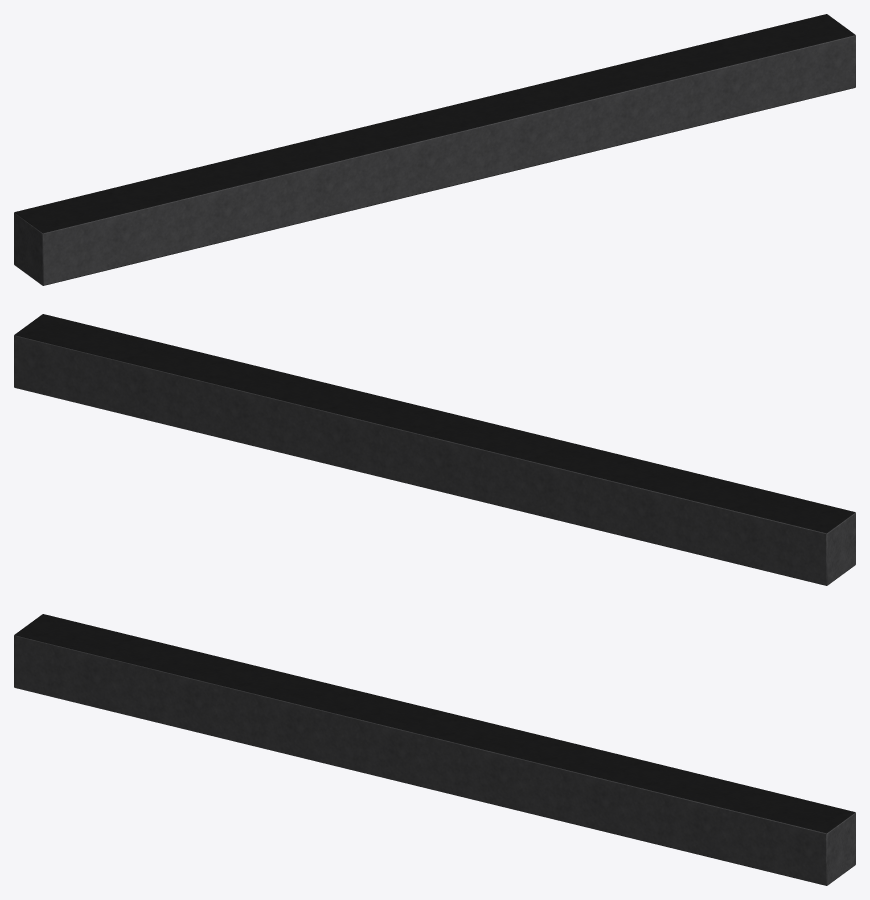
Rendered from Floor_Slab.glb.
The picture shows the model from 3 angles, top to bottom: view 1: azimuth 30°, elevation 25°; view 2: azimuth 150°, elevation 25°; view 3: azimuth 330°, elevation 25°; orthographic projection.
Parts seen in each view (by area): view 1: Floor_Slab; view 2: Floor_Slab; view 3: Floor_Slab.
Part boxes in pixels (x1,y1,x2,y2): Floor_Slab: [14, 14, 855, 285]; Floor_Slab: [14, 314, 855, 585]; Floor_Slab: [14, 614, 855, 885].
Bounding box in the file's own units: 16 × 1 × 1.
2 materials, 2 textured.
